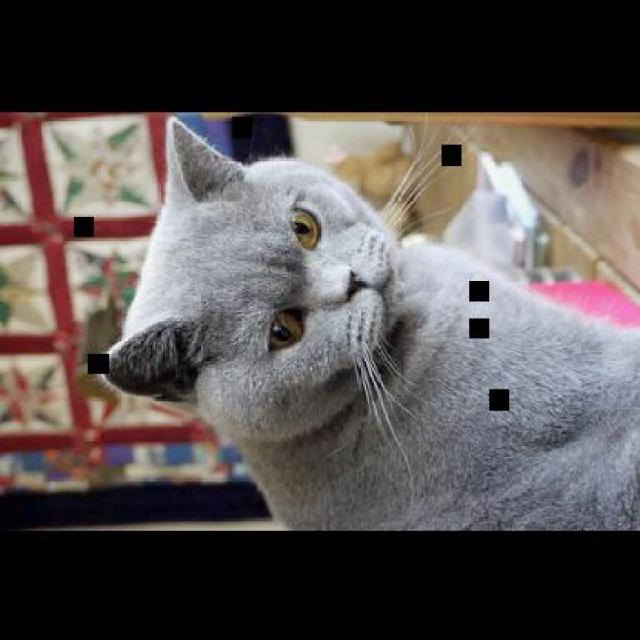unauthorized: (100, 114, 638, 531)
